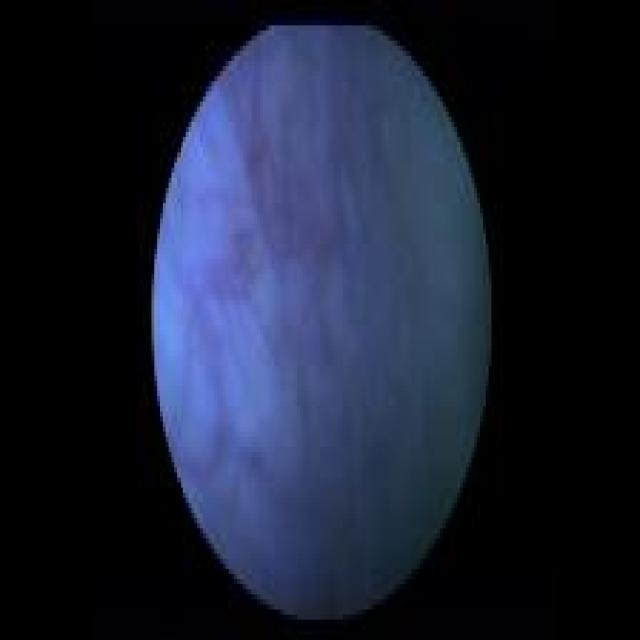blur: (151, 25, 491, 617)
